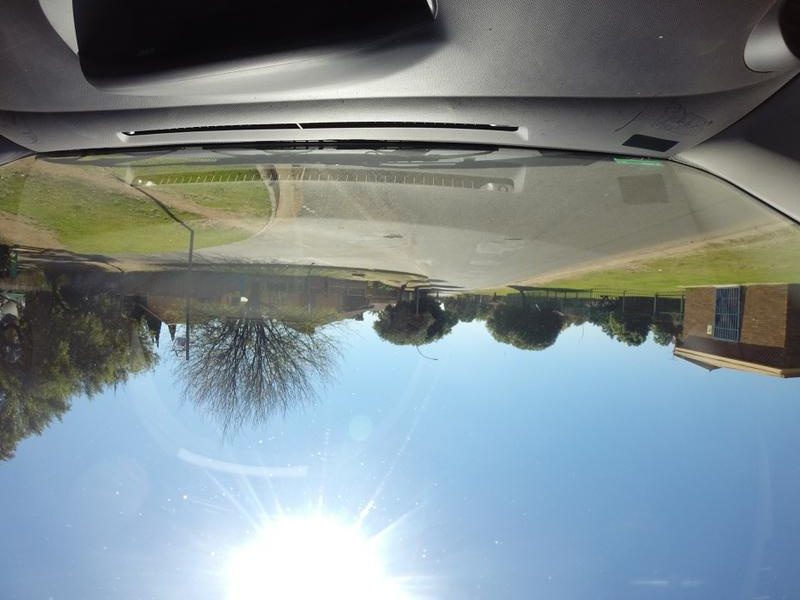pothole: (378, 231, 407, 242), (505, 236, 526, 244)
